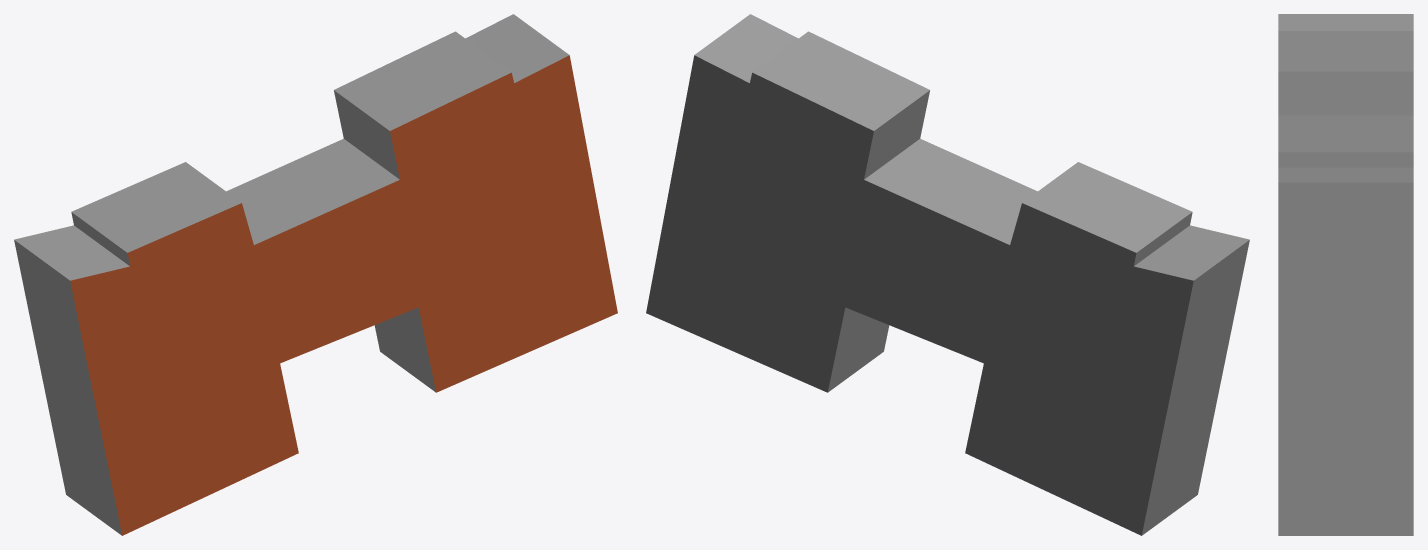
File: construction_3768_assumed_A_Casa_h6m.obj
The picture shows the model from 3 angles, left to right: view 1: azimuth 30°, elevation 25°; view 2: azimuth 150°, elevation 25°; view 3: azimuth 270°, elevation 25°; orthographic projection. The views are drawn at different scales.
Parts seen in each view (by area): view 1: construction_3768_assumed_A_Casa; view 2: construction_3768_assumed_A_Casa; view 3: construction_3768_assumed_A_Casa.
Part boxes in pixels (left/top/right/bottom): construction_3768_assumed_A_Casa: left=14, top=14, right=617, bottom=535; construction_3768_assumed_A_Casa: left=646, top=14, right=1249, bottom=535; construction_3768_assumed_A_Casa: left=1278, top=14, right=1413, bottom=535.
Bounding box in the file's own units: 33.76 × 21.89 × 6.
